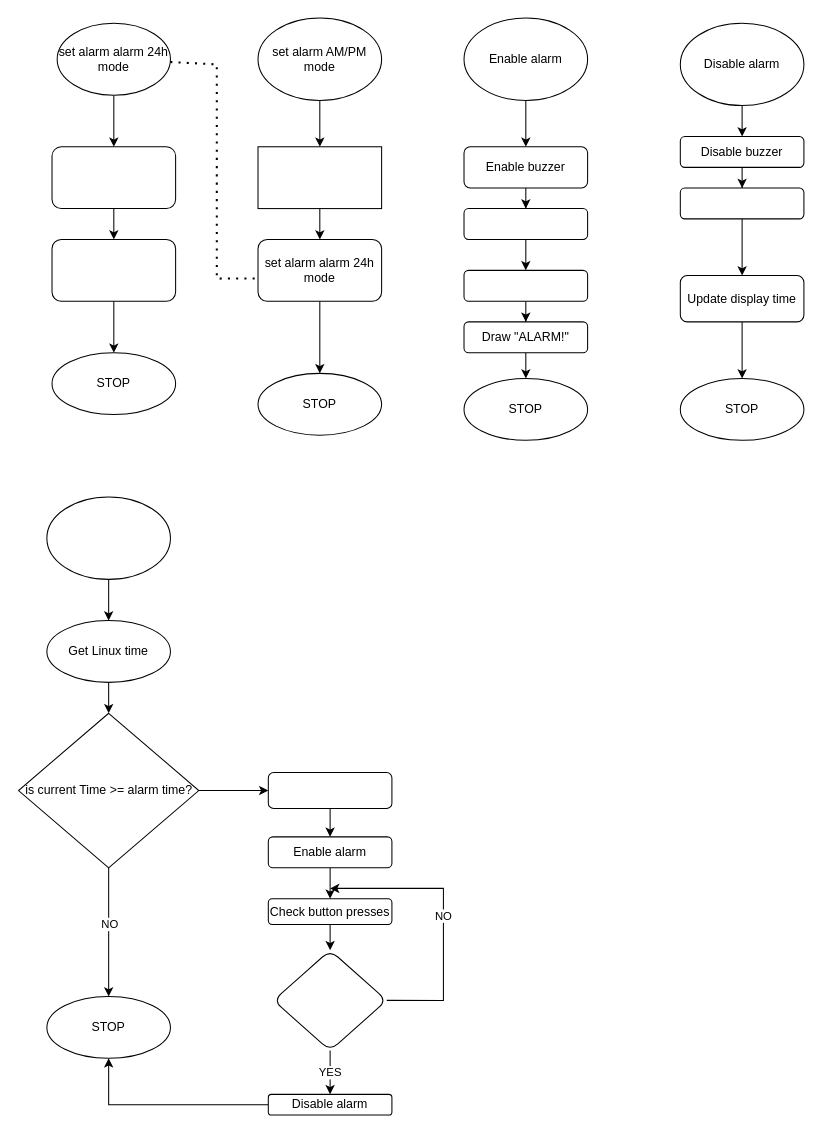
This 822x1133 diagram has some shape labels left out. Here are the shapes that lost their labels. From the top down, the centre of each, then its label:
point (113, 177): Set alarm time variable
point (319, 177): Convert time to 24h
point (525, 223): Enable display flashing
point (741, 203): Disable display flashing
point (113, 269): enable "check alarm time" interupt function
point (525, 285): Clear screen
point (108, 537): Check alarm time
point (329, 790): Disable function interupt
point (329, 1000): Is STOP alarm button pressed?
